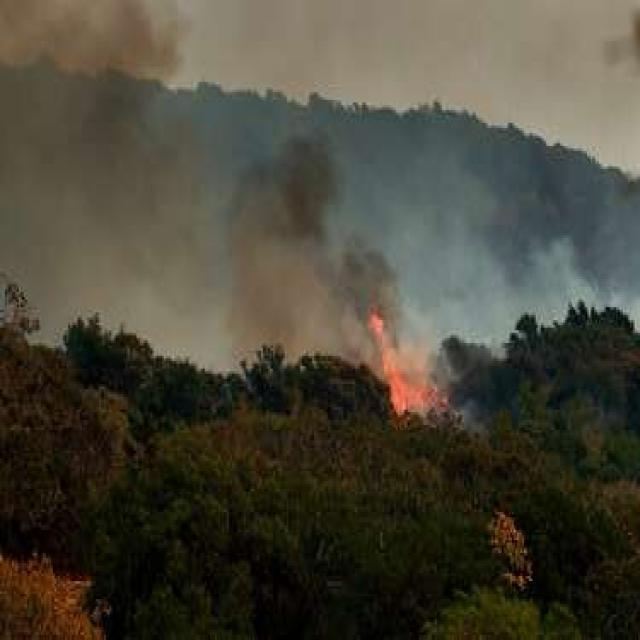Fire: (363, 302, 445, 426)
Smoke: (0, 0, 411, 373), (408, 92, 640, 374), (434, 380, 498, 458)
